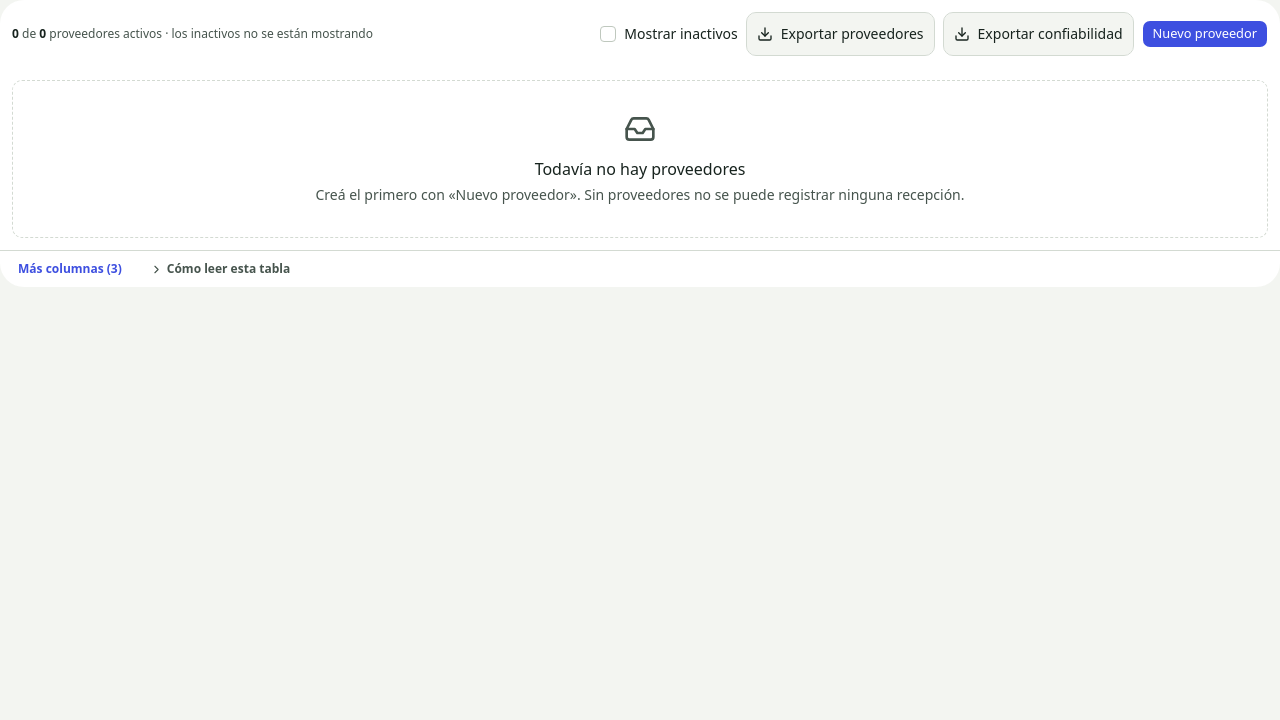
SuppliersTab — entidad canónica, baja lógica, NIT duplicado con mensaje específico › "400 SUPPLIER_DUPLICATE_NIT" se muestra tal cual el servidor lo redactó, no como un toast genérico
The image size is (1280, 720).
Click the button "Nuevo proveedor". click: coordinates (1205, 34)
box: [1142, 20, 1268, 48]
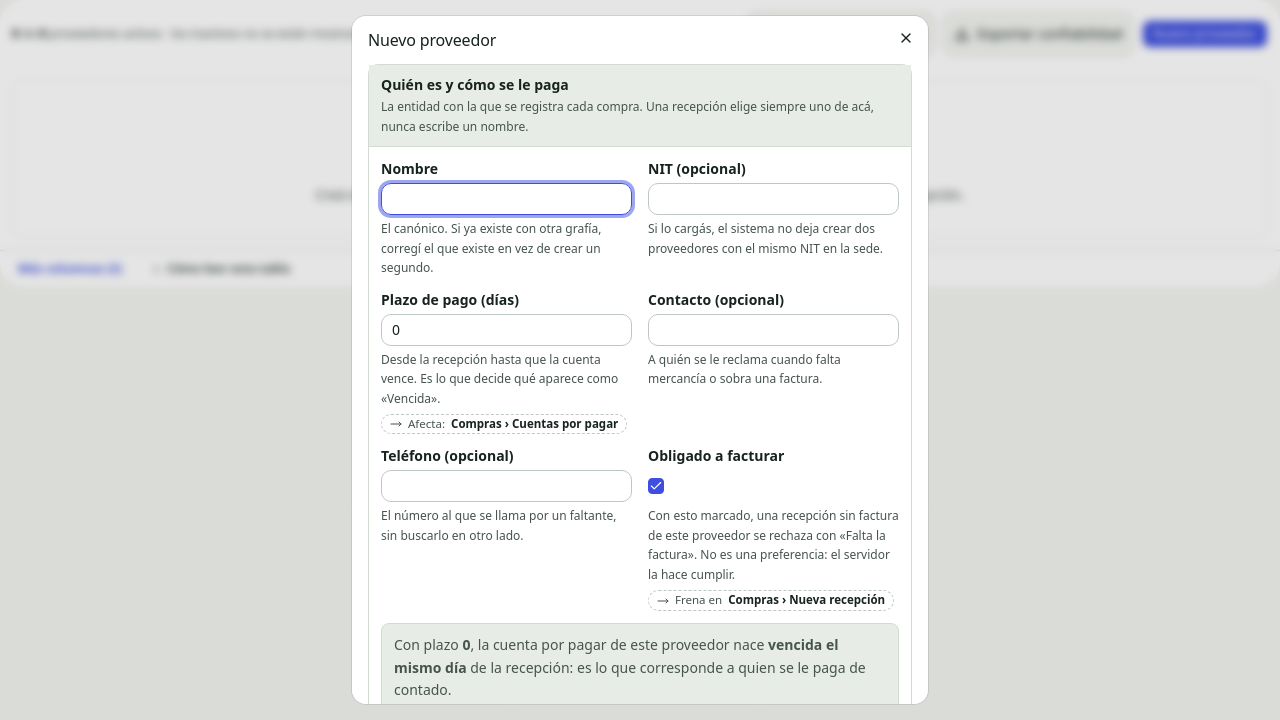
Result: the dialog is shown at [352, 16, 928, 704]
Type "Distribuidora Nueva" into the field labelled "Nombre". click: coordinates (506, 199)
box: [381, 183, 632, 215]
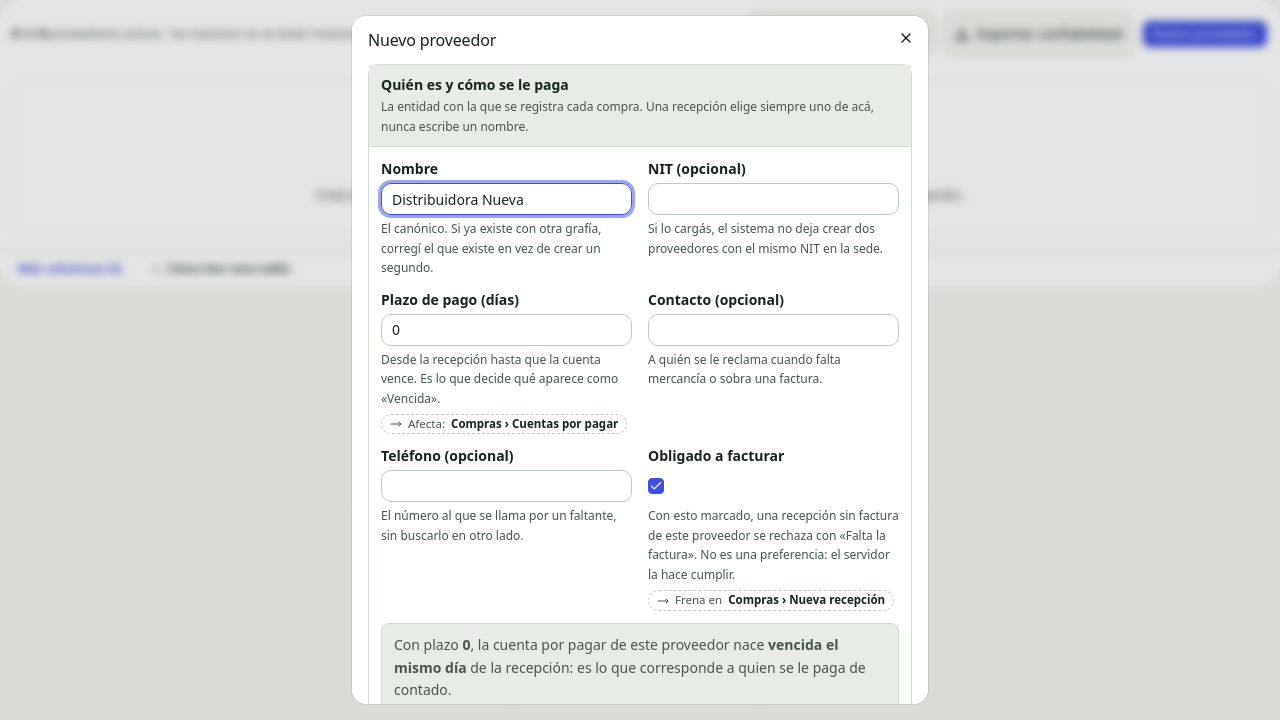
Type "900123456" into the field labelled "NIT (opcional)". click: coordinates (774, 199)
box: [648, 183, 899, 215]
(page scrolled)
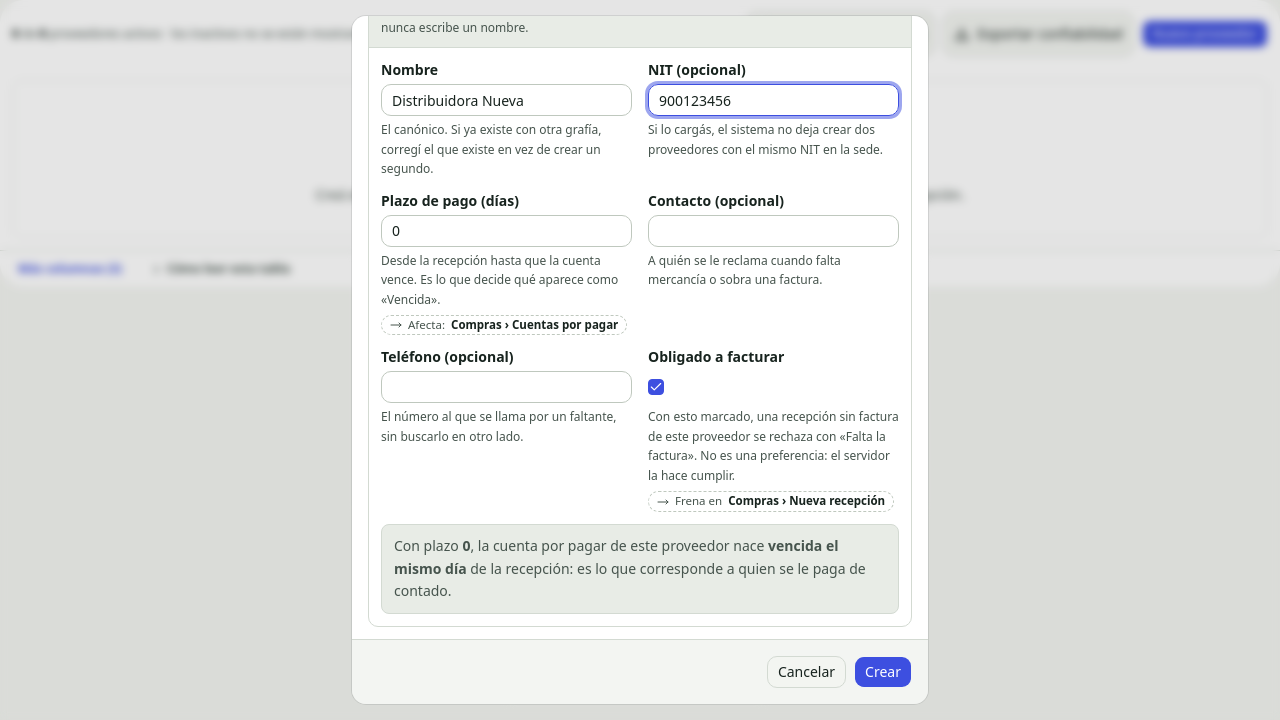
Click the button "Crear". click: coordinates (883, 672)
box: [854, 656, 912, 688]
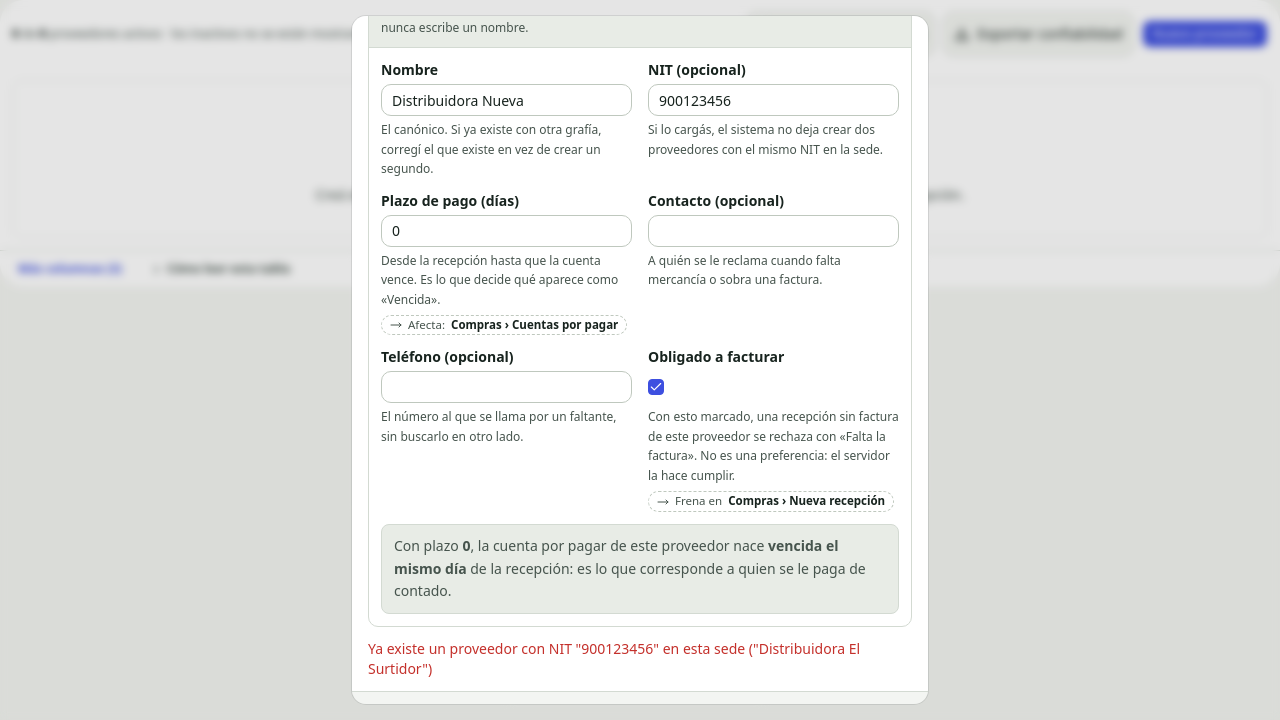
Result: the message shows "Ya existe un proveedor con NIT \"900123456\" en esta sede (\"Distribuidora El Surtidor\")" at [368, 639, 860, 678]
